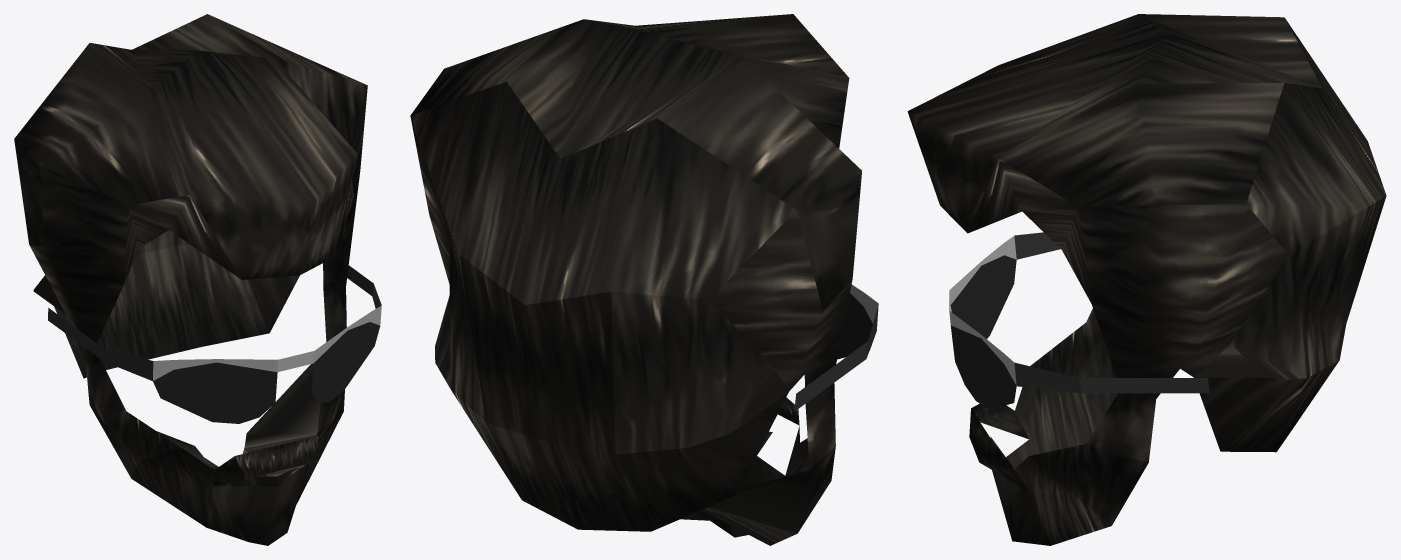
Rendered from hair man 5.FBX.
3 views of the same model, side by side, from view 1: azimuth 30°, elevation 25°; view 2: azimuth 150°, elevation 25°; view 3: azimuth 270°, elevation 25° (orthographic). The views are drawn at different scales.
Visible parts, largest first — view 1: Hair man 005; view 2: Hair man 005; view 3: Hair man 005.
Part boxes in pixels (bbox=[...]): Hair man 005: bbox=[14, 14, 381, 545]; Hair man 005: bbox=[410, 14, 878, 545]; Hair man 005: bbox=[907, 14, 1386, 545].
Bounding box in the file's own units: 4918 × 6393 × 5471.
